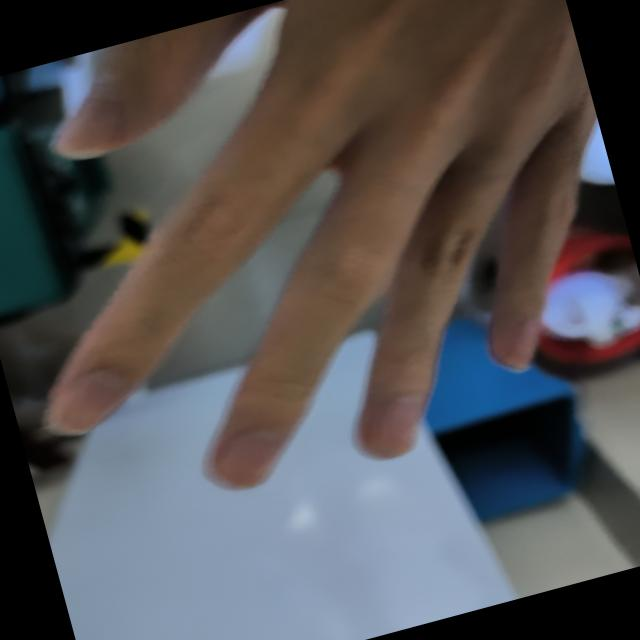Nail: (48, 369, 130, 434), (53, 90, 123, 157), (211, 431, 280, 485), (372, 394, 422, 453), (506, 318, 539, 366)
